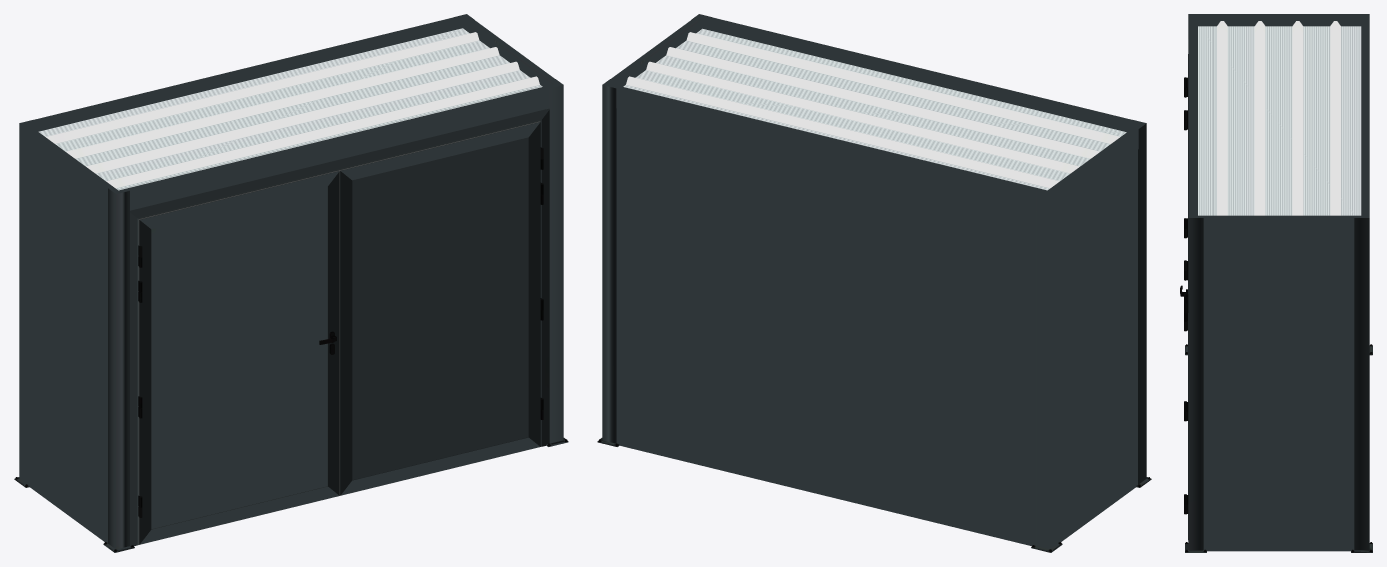
3 renders of one model, left to right at view 1: azimuth 30°, elevation 25°; view 2: azimuth 150°, elevation 25°; view 3: azimuth 270°, elevation 25°, orthographic. The views are drawn at different scales.
Parts seen in each view (by area): view 1: priximbattable_net_abris_de_rangement_13450_abri_de_rangemen, folha, folha_2, porta_avec_hublot; view 2: priximbattable_net_abris_de_rangement_13450_abri_de_rangemen; view 3: priximbattable_net_abris_de_rangement_13450_abri_de_rangemen, folha, porta_avec_hublot, folha_2.
Boxes of the visible parts, x1,y1,x2,y2 form: priximbattable_net_abris_de_rangement_13450_abri_de_rangemen: (14, 14, 568, 552); folha: (339, 121, 543, 495); folha_2: (138, 170, 339, 544); porta_avec_hublot: (130, 108, 549, 546); priximbattable_net_abris_de_rangement_13450_abri_de_rangemen: (597, 14, 1151, 552); priximbattable_net_abris_de_rangement_13450_abri_de_rangemen: (1185, 14, 1372, 552); folha: (1184, 145, 1188, 539); porta_avec_hublot: (1184, 87, 1188, 514); folha_2: (1184, 54, 1188, 321).
Bounding box in the file's own units: 324 × 244 × 128.
1 material, 1 textured.
